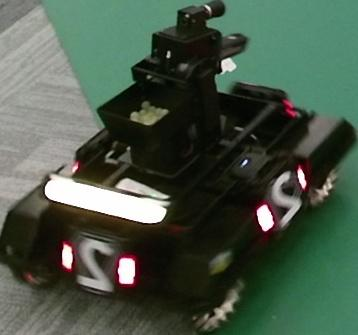armor_2: (256, 167, 306, 230), (62, 244, 136, 285)
back_2: (74, 230, 116, 292)
light: (46, 173, 168, 224)
right_2: (266, 172, 302, 228)
